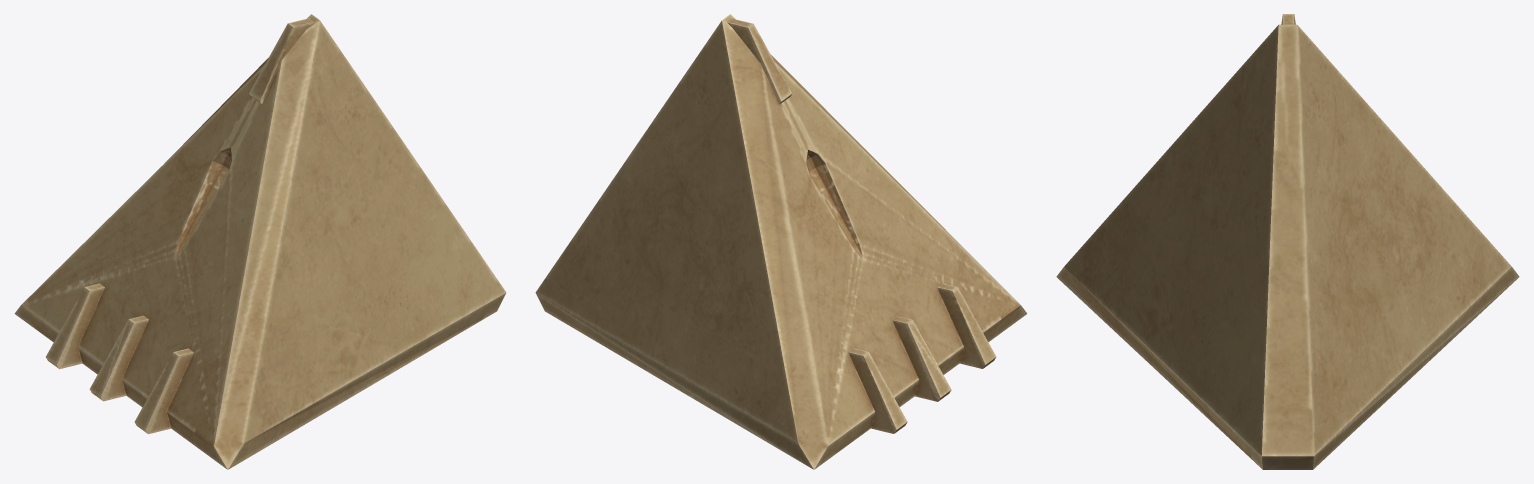
Rendered from Red gem ruin.FBX.
3 renders of one model, left to right at view 1: azimuth 30°, elevation 25°; view 2: azimuth 150°, elevation 25°; view 3: azimuth 270°, elevation 25°, orthographic. The views are drawn at different scales.
Visible parts, largest first — view 1: Pyramid red; view 2: Pyramid red; view 3: Pyramid red.
Part boxes in pixels (x1,y1,x2,y2): Pyramid red: (14, 14, 506, 469); Pyramid red: (535, 14, 1027, 469); Pyramid red: (1056, 14, 1519, 469).
Size of the model in its own units: 1582 by 1239 by 1465.
Materials: 1 (1 with a texture image).
